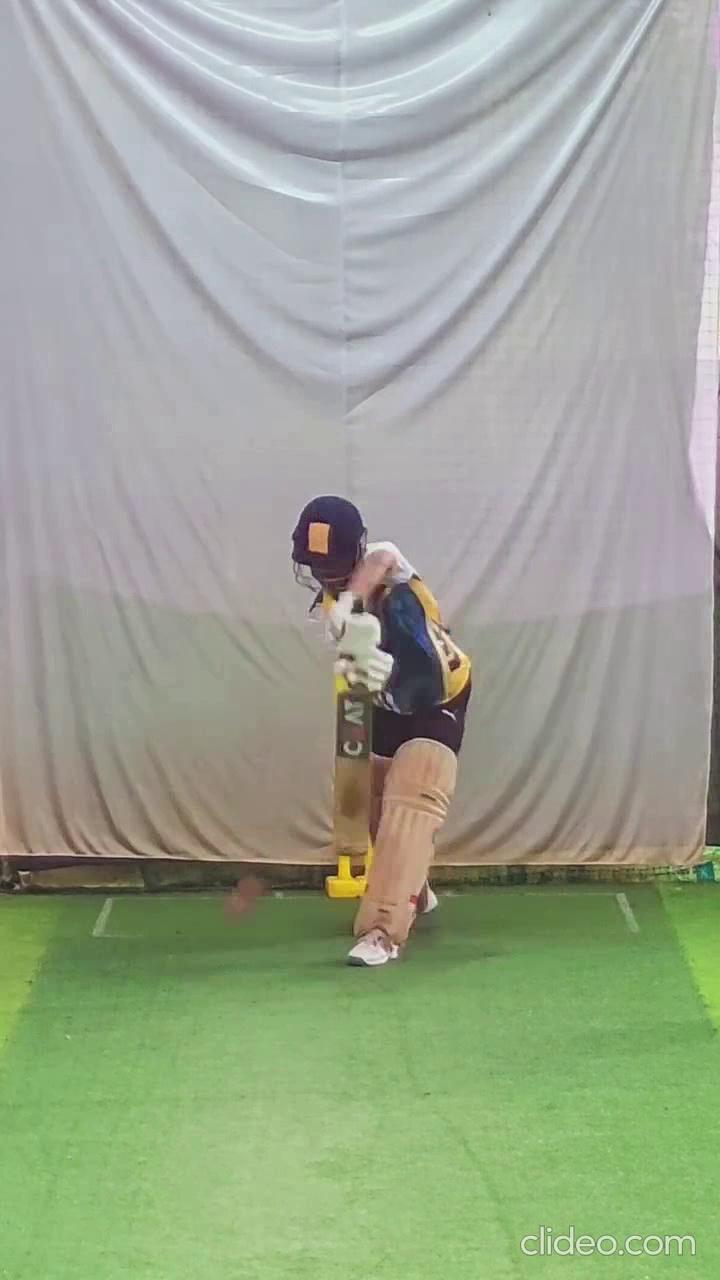bat: (332, 691, 372, 856)
